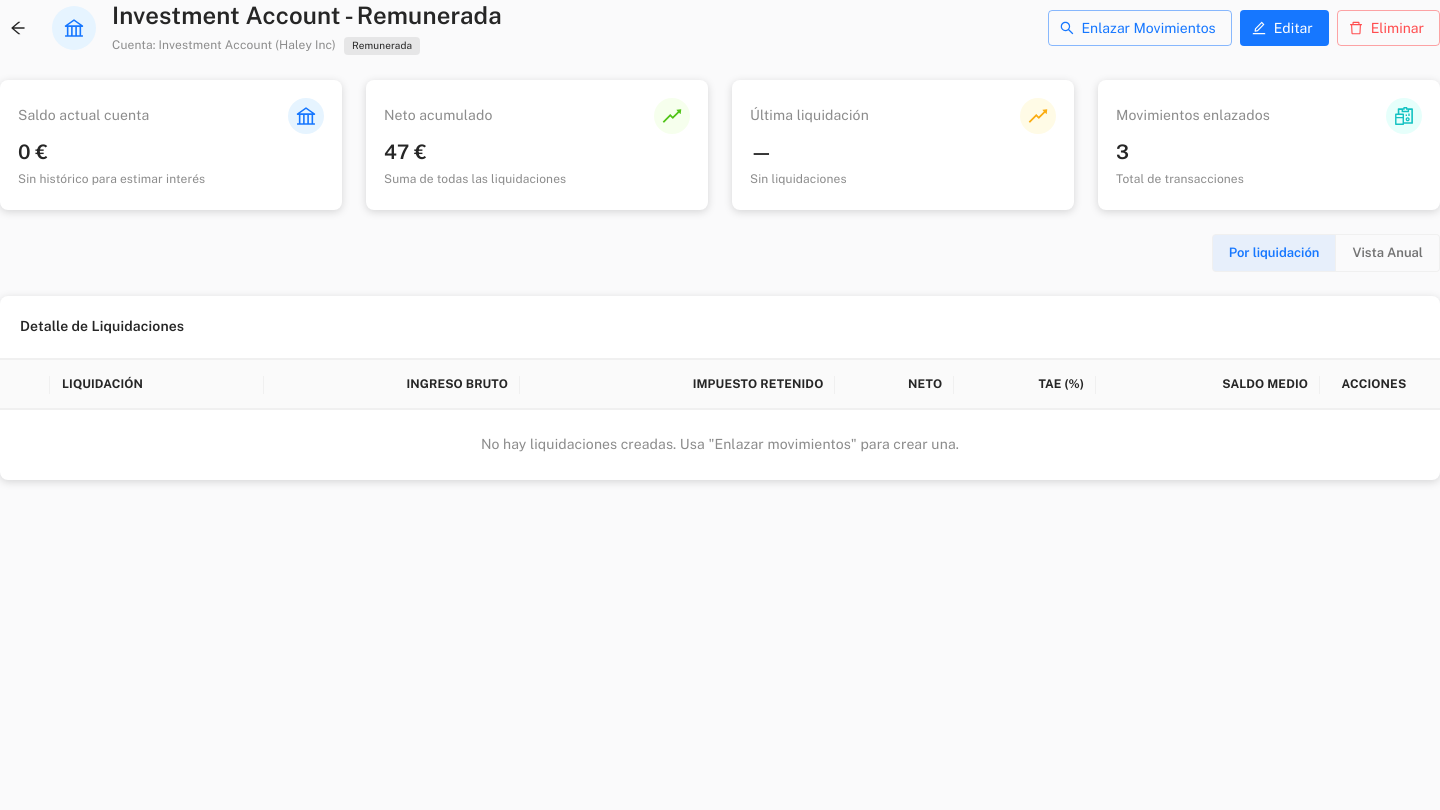
Test: YieldDetail › link transactions › links the selected transaction and closes the modal on success
Click the button "Enlazar movimientos". click: coordinates (1140, 28)
box: left=1048, top=10, right=1232, bottom=46
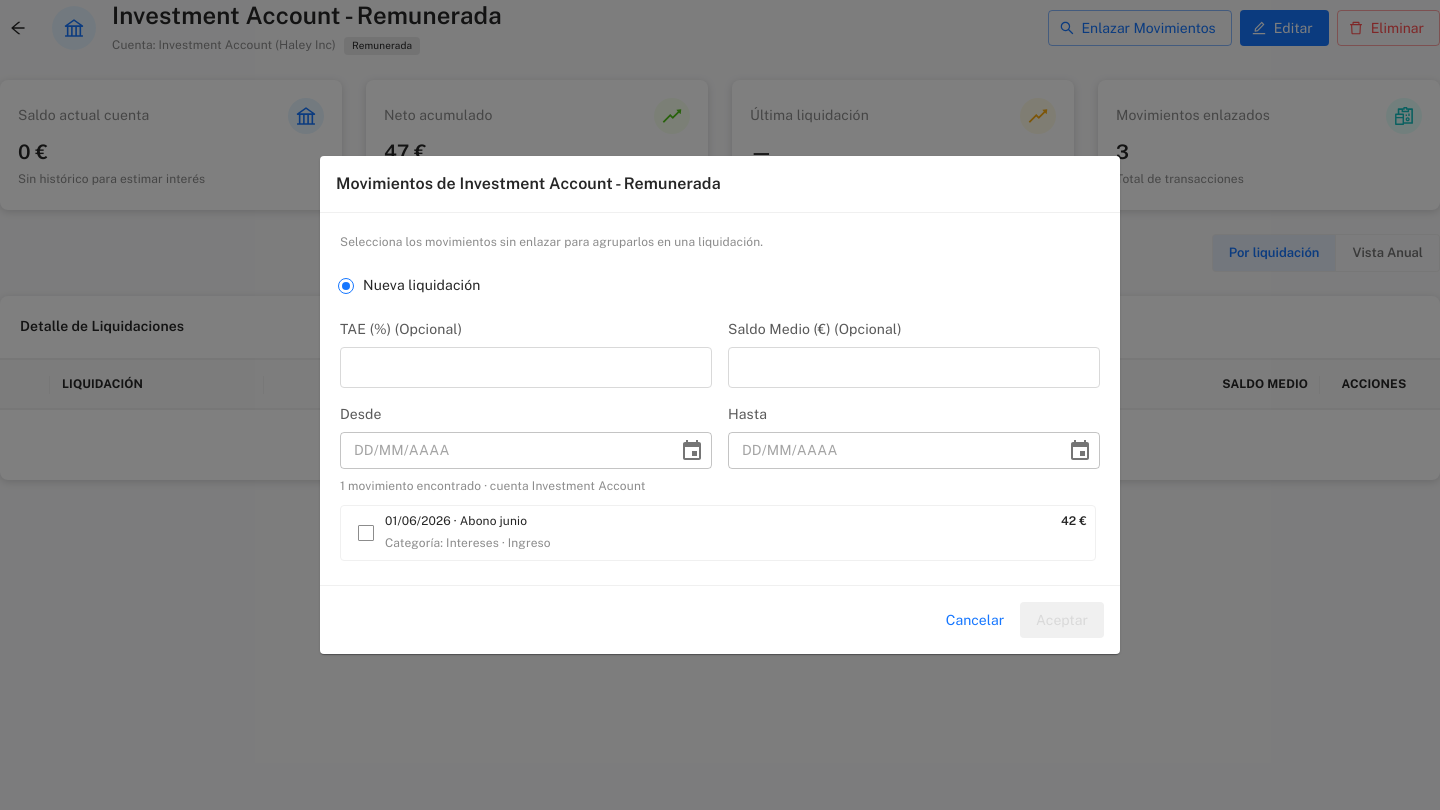
Click the text "01/06/2026 · Abono junio". click: coordinates (456, 522)
box: left=385, top=512, right=527, bottom=532
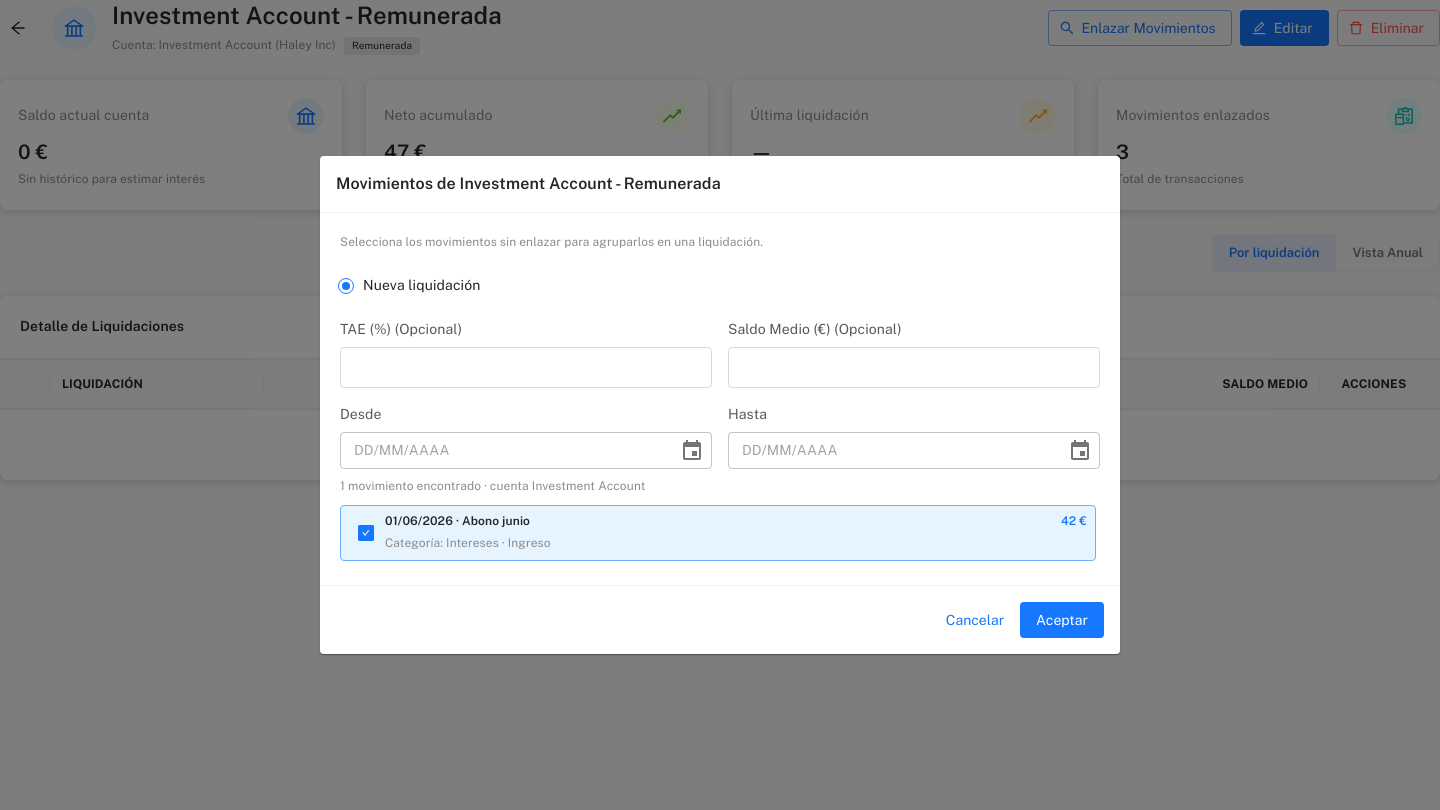
Click the button "Aceptar". click: coordinates (1062, 620)
box: left=1020, top=602, right=1104, bottom=638
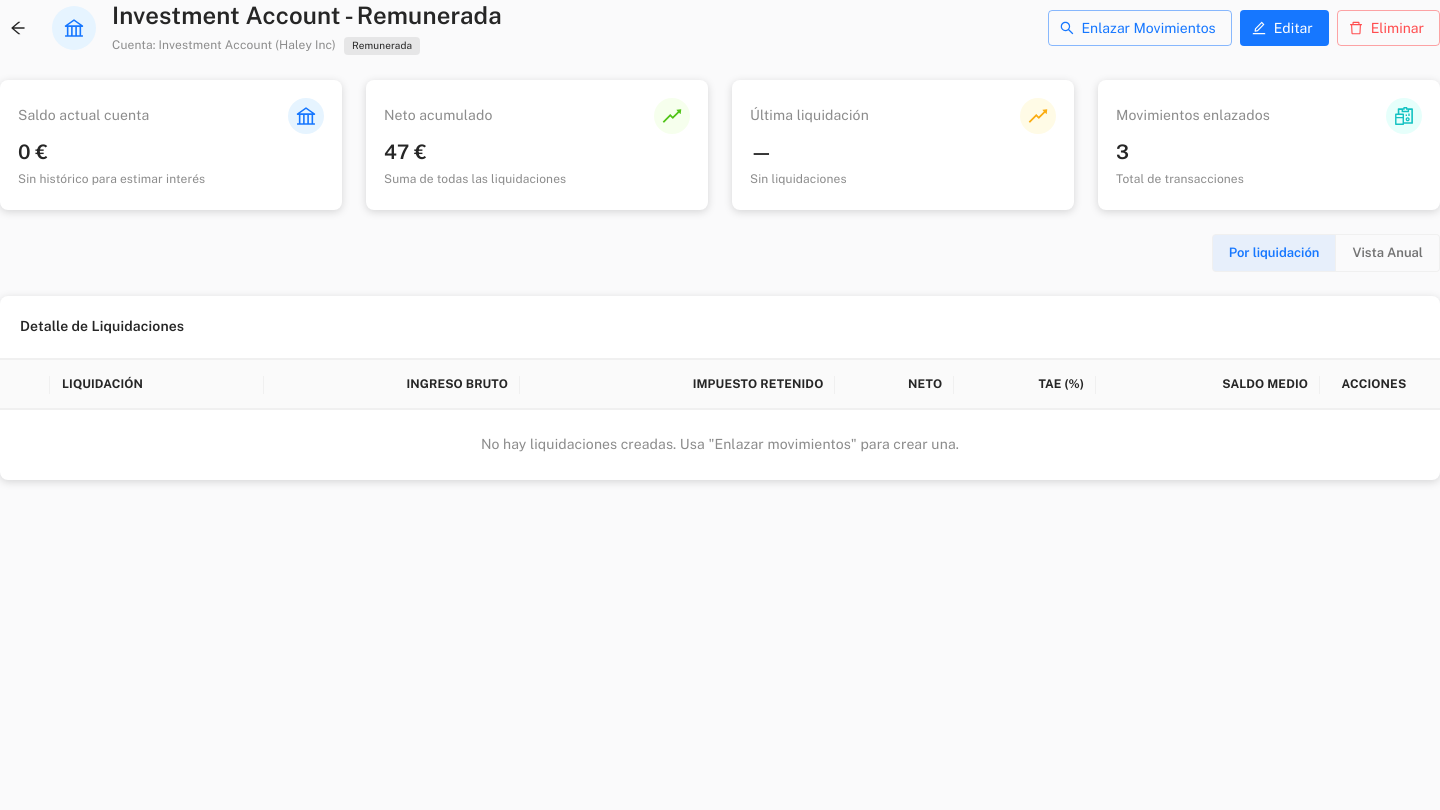
Check: the text "Movimientos de" is gone
